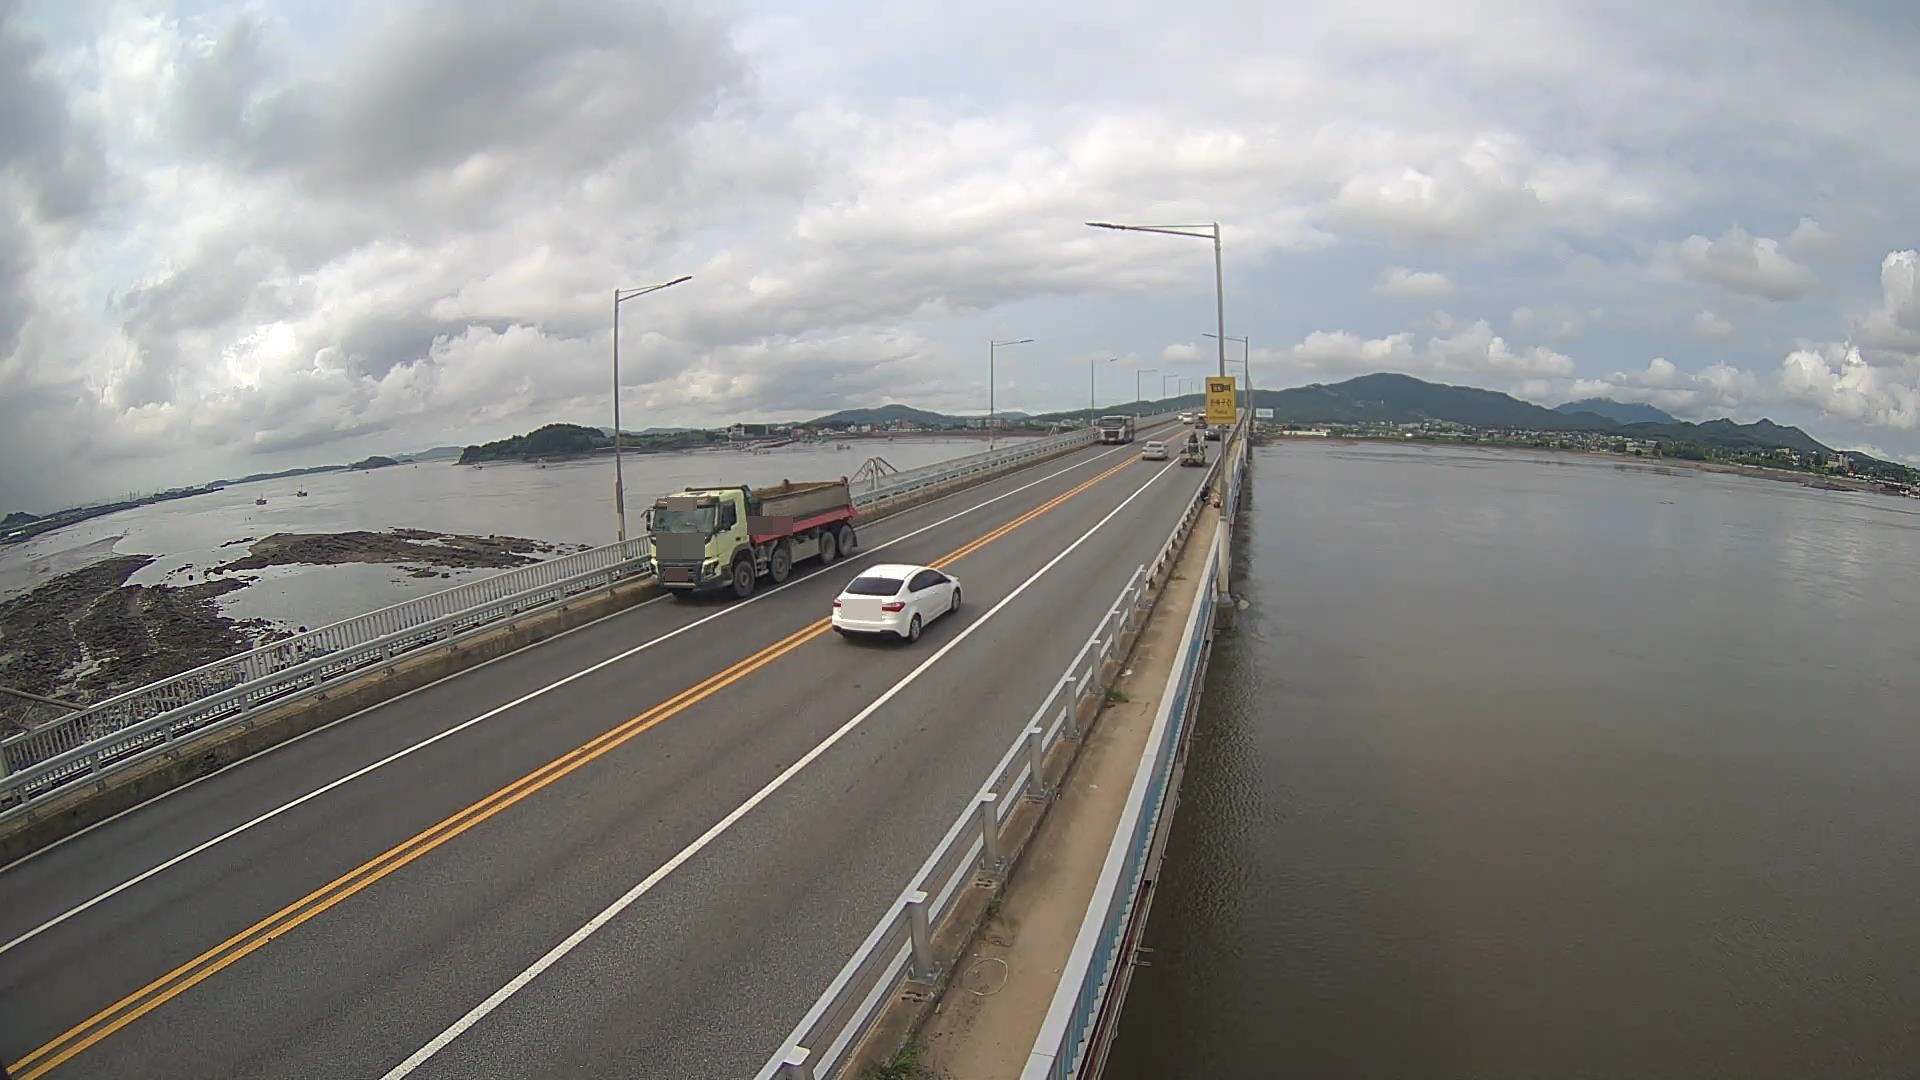정상차량: (641, 476, 858, 601)
